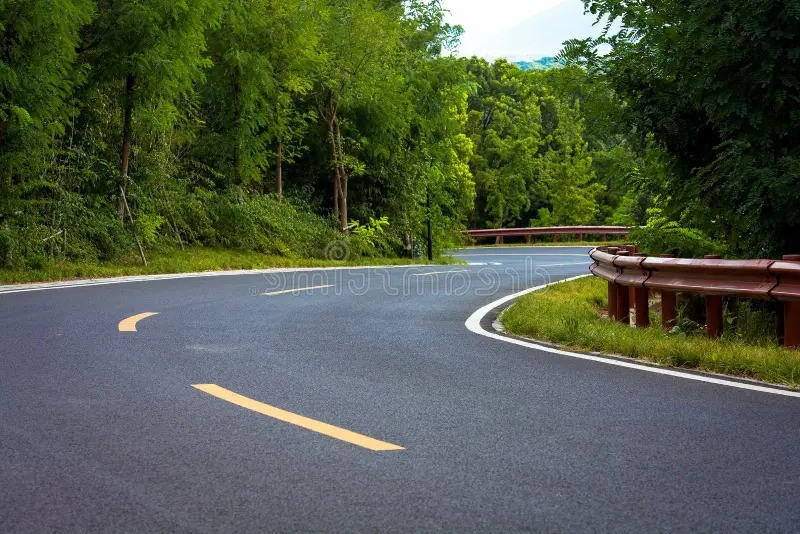rightTrun: (33, 226, 419, 502)
